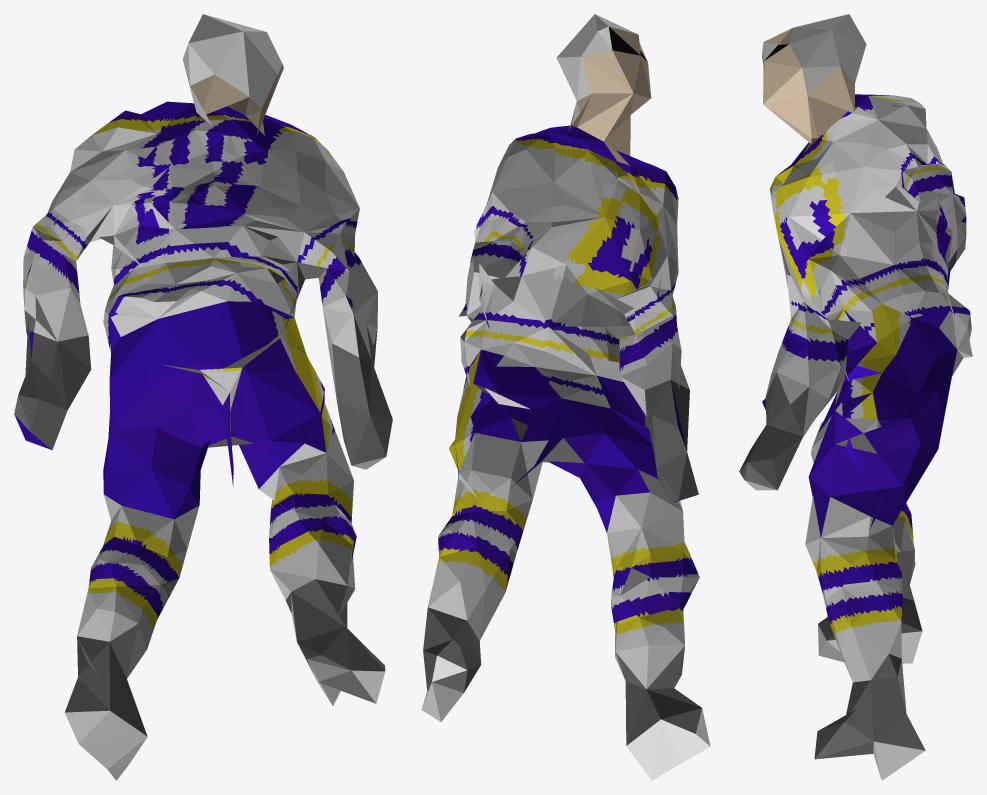
The model's file is nhl96pc_buffalo_player_clean_shaded.glb.
3 views of the same model, side by side, from view 1: azimuth 30°, elevation 25°; view 2: azimuth 150°, elevation 25°; view 3: azimuth 270°, elevation 25° (orthographic). The views are drawn at different scales.
Visible parts, largest first — view 1: geometry_0; view 2: geometry_0; view 3: geometry_0.
Part boxes in pixels (x1=…): geometry_0: x1=14, y1=14, x2=392, y2=780; geometry_0: x1=421, y1=14, x2=710, y2=780; geometry_0: x1=739, y1=14, x2=972, y2=780.
Bounding box in the file's own units: 26.26 × 58.57 × 17.73.
